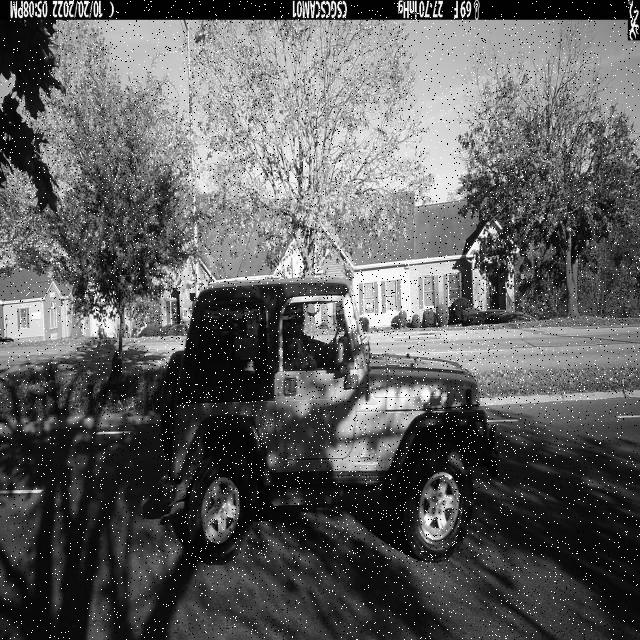SUV: (157, 275, 495, 564)
